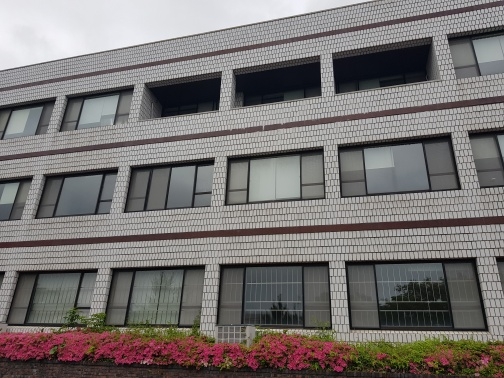Foreign Language Institute: (6, 11, 498, 367), (119, 128, 469, 219)
